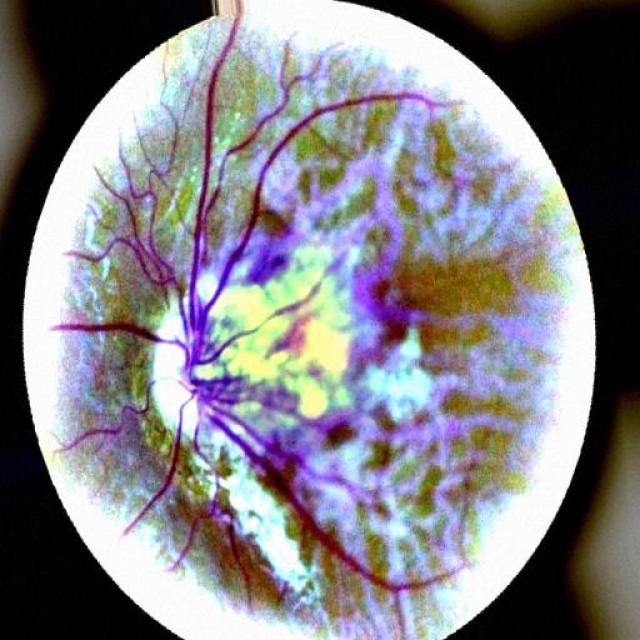Nerves: (51, 0, 452, 592), (170, 468, 248, 579), (121, 389, 149, 418)
